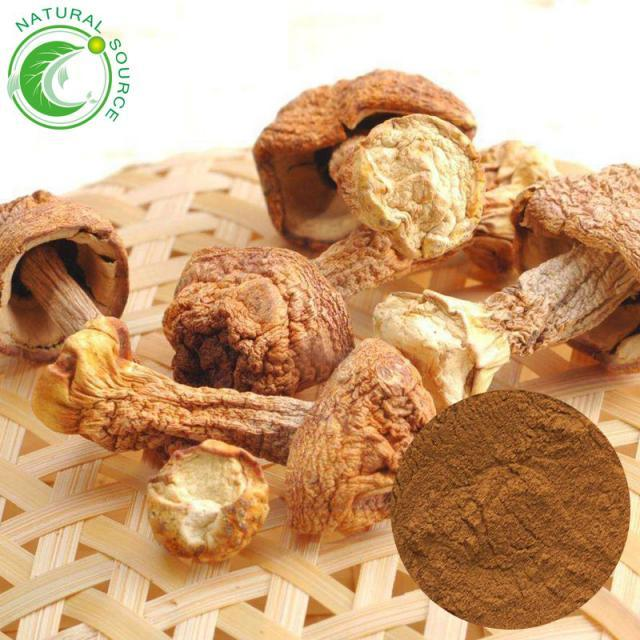Agaricus blazei Murill: (0, 72, 634, 549)
